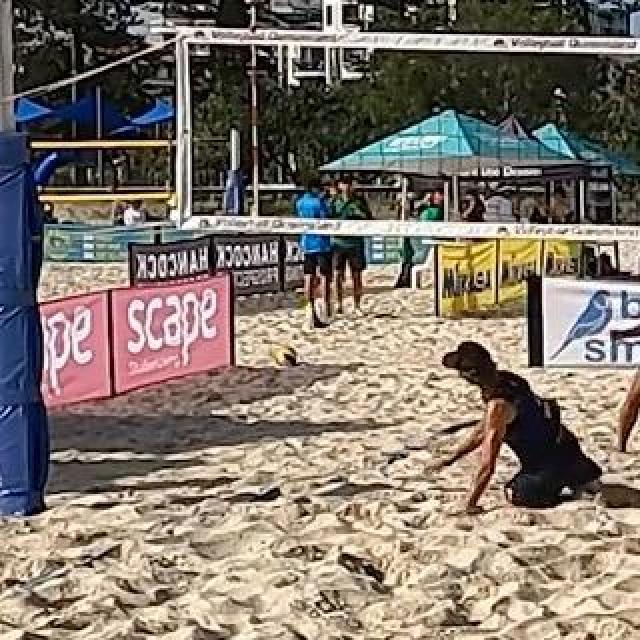volleyball: (276, 347, 298, 367)
